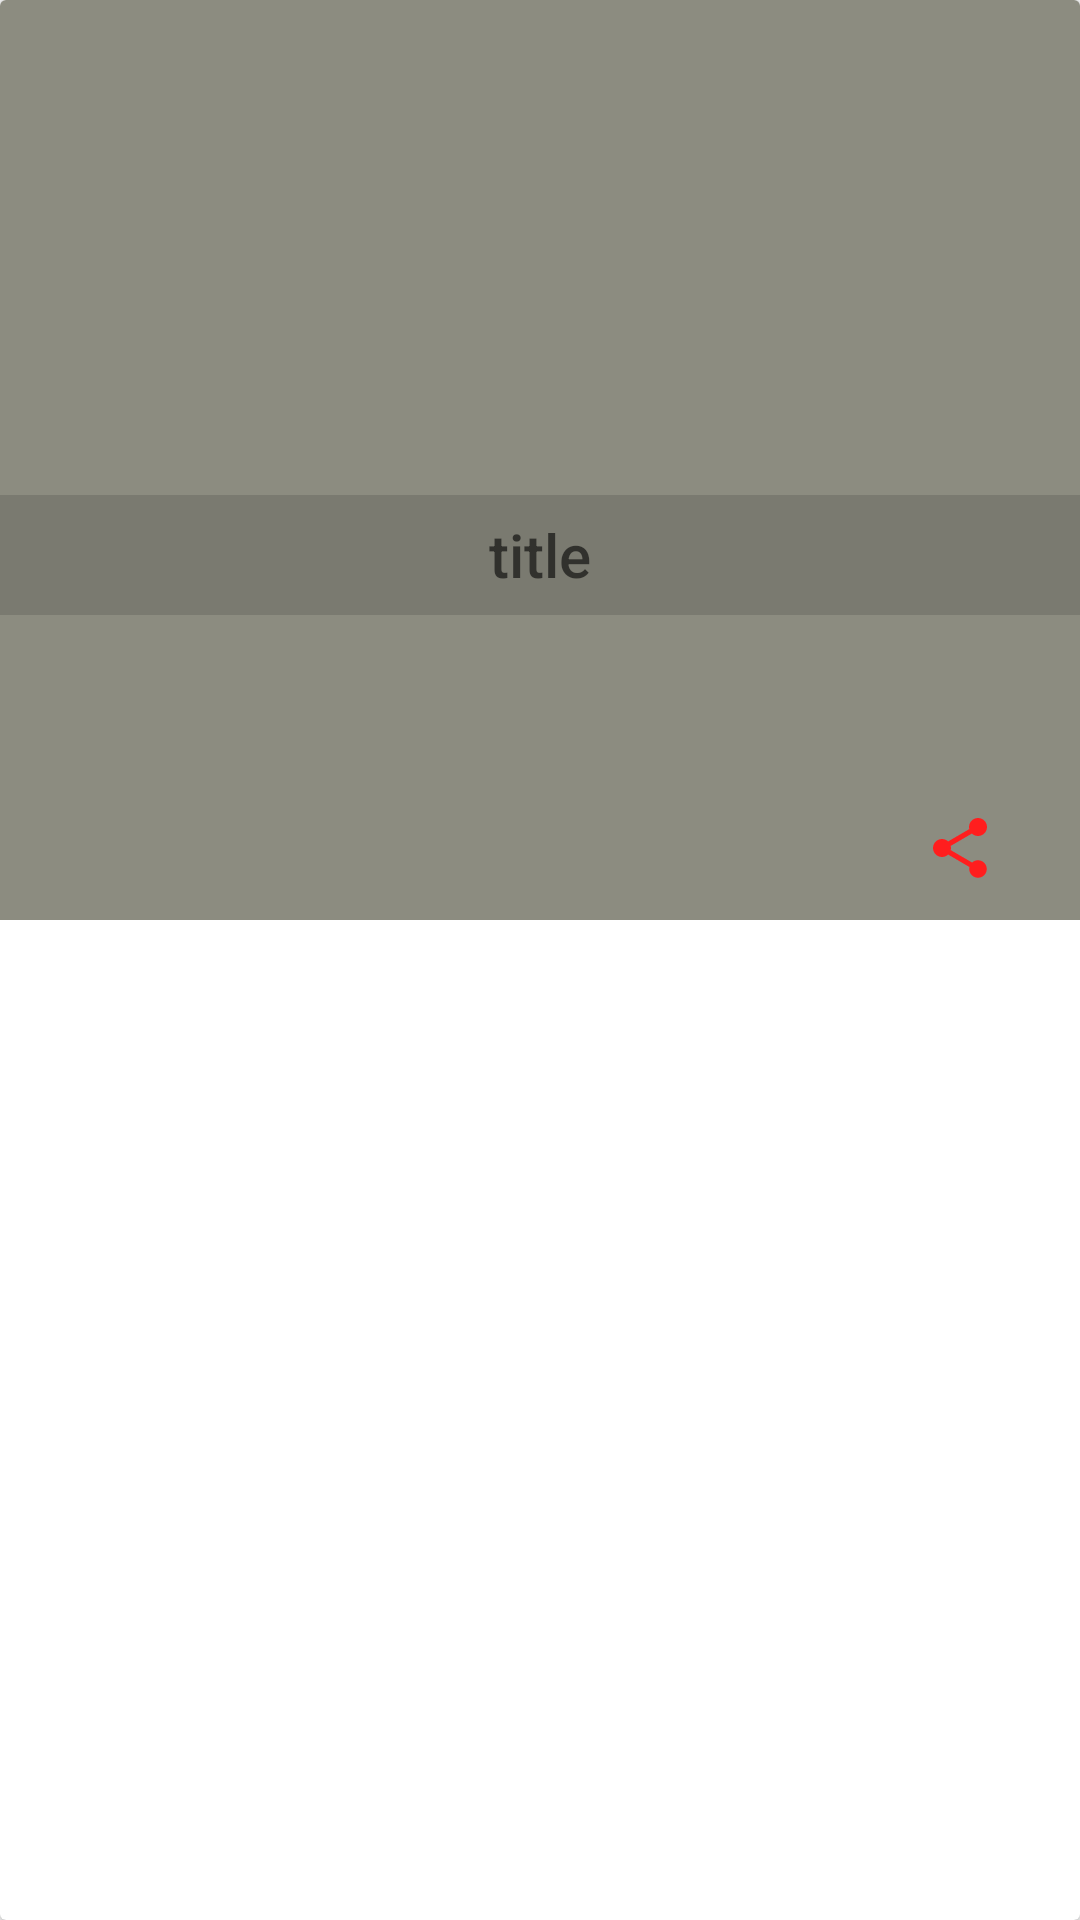

Named icons in this screenshot (1080 x 1920) and their bounding boxes, (x1, y1, x2, y2):
share: (933, 818, 987, 878)
